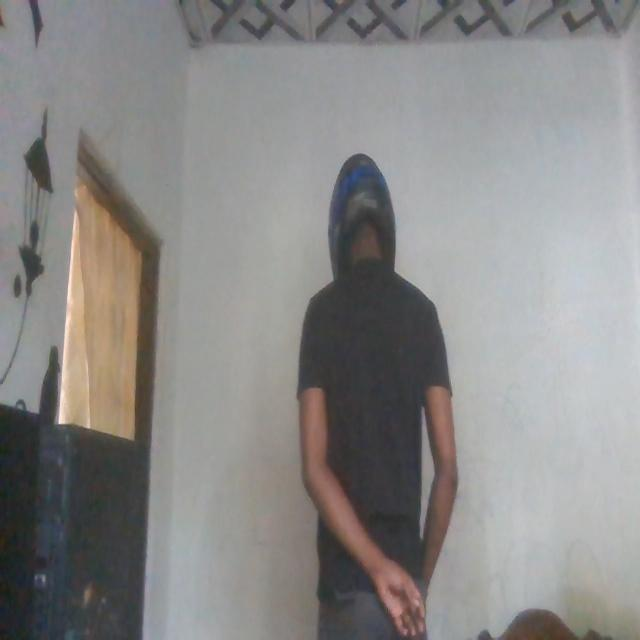Helmet_Wearer: (312, 143, 402, 312)
Person: (292, 141, 458, 640)
